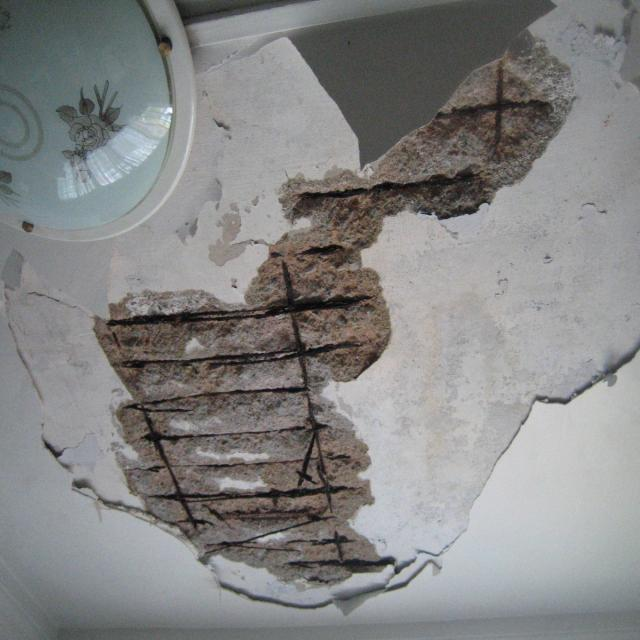Spalling: (98, 47, 569, 608)
